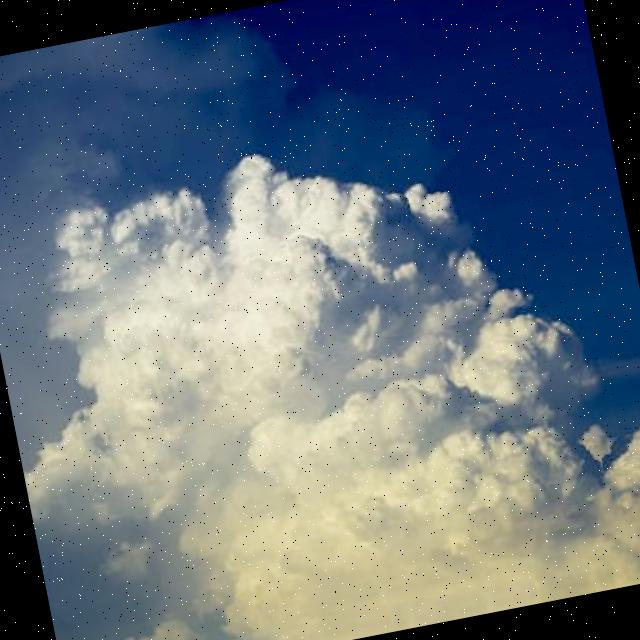Ns: (1, 80, 640, 640)
